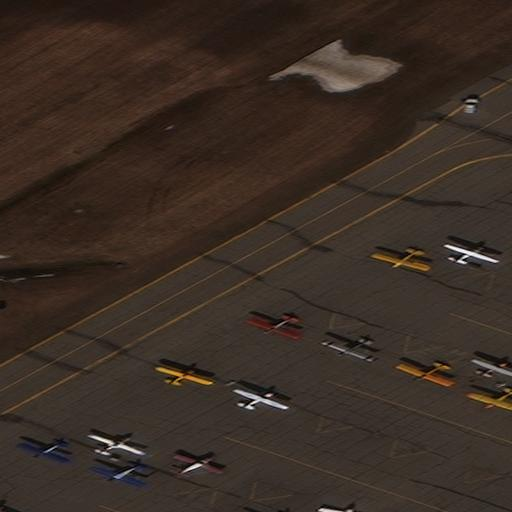Small Civil Transport: (89, 462, 143, 488), (318, 338, 371, 363), (369, 248, 426, 271), (246, 314, 297, 339), (394, 364, 448, 387), (88, 433, 145, 454), (16, 440, 64, 464), (465, 388, 512, 412), (445, 243, 499, 263), (235, 388, 288, 408), (177, 453, 223, 476), (158, 365, 213, 384), (473, 358, 512, 376)
